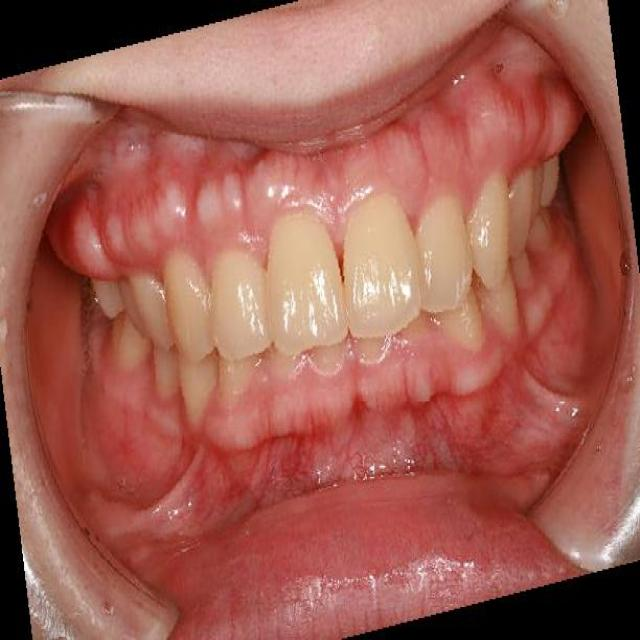swelling: (265, 162, 331, 238), (195, 178, 248, 250), (388, 164, 434, 239), (480, 93, 522, 169), (216, 398, 266, 457), (147, 178, 187, 242)
